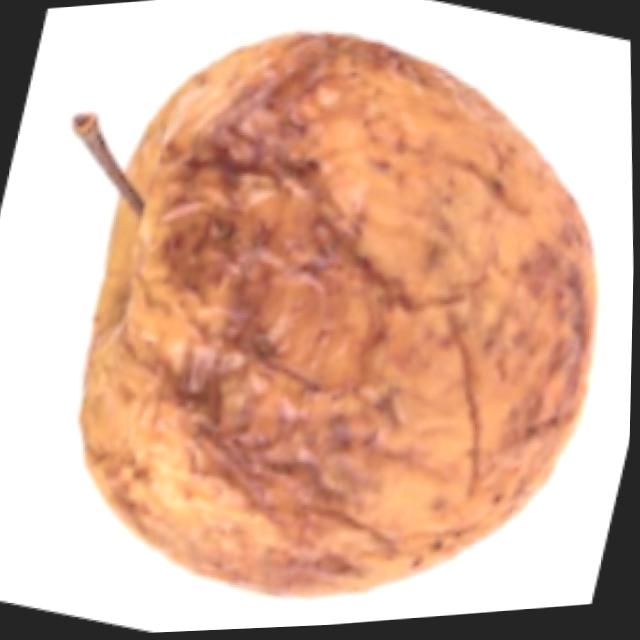organik: (46, 0, 610, 638)
